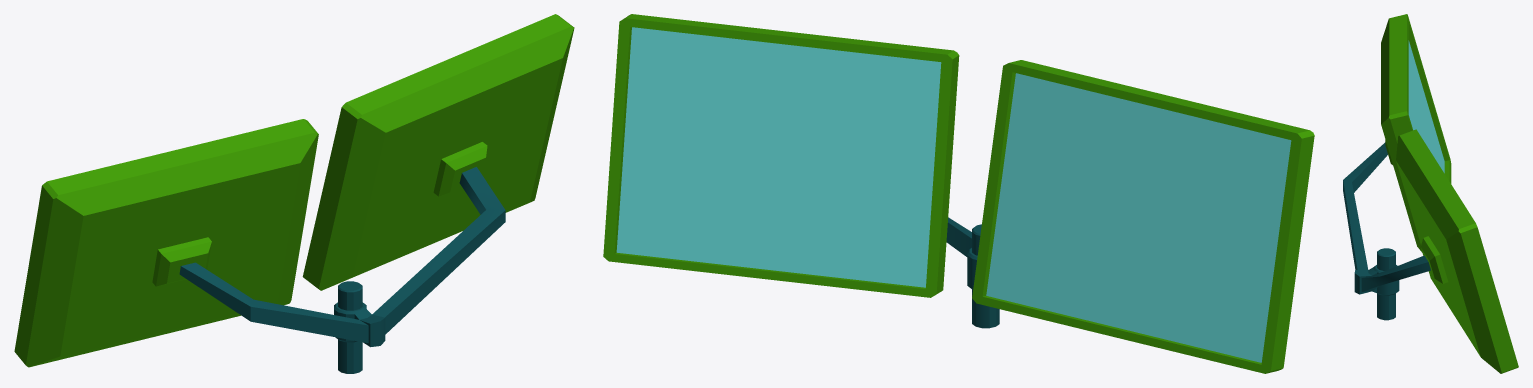
The model's file is Monitors.fbx.
3 renders of one model, left to right at view 1: azimuth 30°, elevation 25°; view 2: azimuth 150°, elevation 25°; view 3: azimuth 270°, elevation 25°, orthographic. The views are drawn at different scales.
Visible parts, largest first — view 1: Monitors; view 2: Monitors; view 3: Monitors.
Part boxes in pixels (<box>): Monitors: <box>14,14,574,373</box>; Monitors: <box>603,14,1314,373</box>; Monitors: <box>1343,14,1518,373</box>.
Bounding box in the file's own units: 1.68 × 0.705 × 0.5835.
